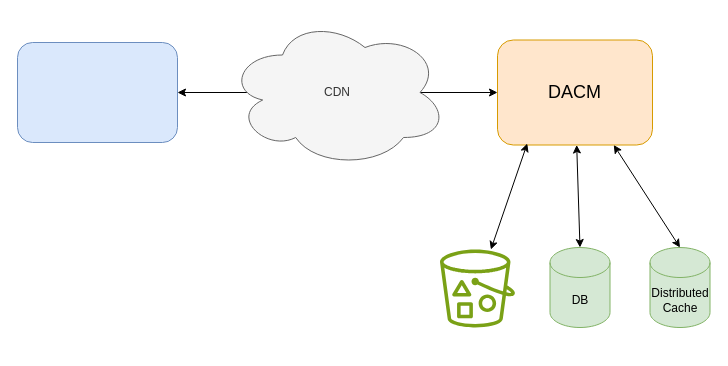
Image size: 728x366. Some labels were removed from this diagram. The shapes that lost their labels are listed below. From the top down, each one's centre as x and y in pixels, then its label:
the point at 97,92: Consumers
the point at 477,288: File Bucket
